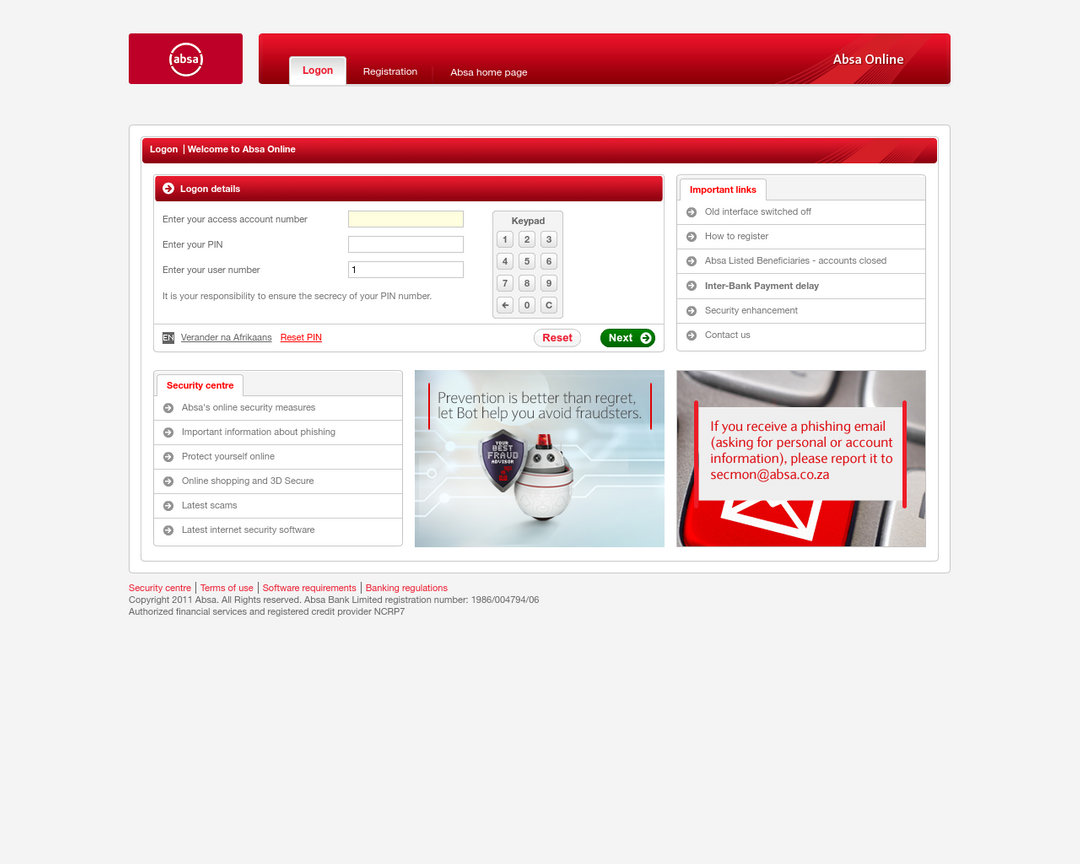ABSA: (166, 41, 206, 80)
